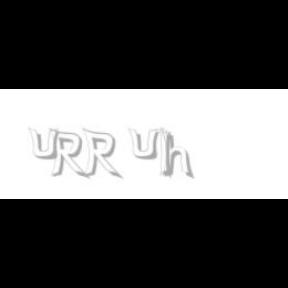R: (49, 128, 87, 180), (82, 128, 120, 180)
h: (161, 128, 196, 180)
l: (159, 128, 175, 180)
u: (28, 128, 62, 160), (128, 128, 162, 160)
